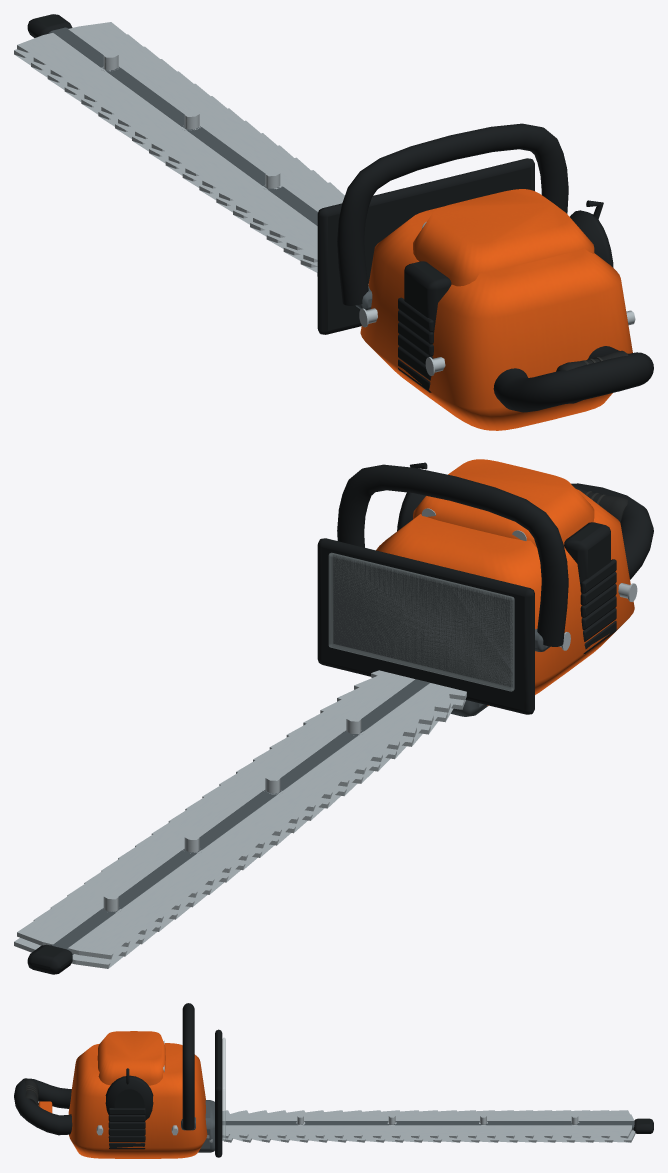
The model's file is GasHedgeTrimmer.fbx.
3 views of the same model, one above another, from view 1: azimuth 30°, elevation 25°; view 2: azimuth 150°, elevation 25°; view 3: azimuth 270°, elevation 25° (orthographic). The views are drawn at different scales.
Visible parts, largest first — view 1: GasHedgeTrimmer__Body; view 2: GasHedgeTrimmer__Body, GasHedgeTrimmer__Glass_HandGuard; view 3: GasHedgeTrimmer__Body, GasHedgeTrimmer__Glass_HandGuard.
Part boxes in pixels (x1,y1,x2,y2): GasHedgeTrimmer__Body: (14, 14, 653, 430); GasHedgeTrimmer__Body: (14, 459, 653, 974); GasHedgeTrimmer__Glass_HandGuard: (328, 553, 514, 691); GasHedgeTrimmer__Body: (14, 1003, 653, 1158); GasHedgeTrimmer__Glass_HandGuard: (222, 1037, 225, 1140).
Size of the model in its own units: 30.8 by 28 by 132.
Materials: 2 (1 with a texture image).
